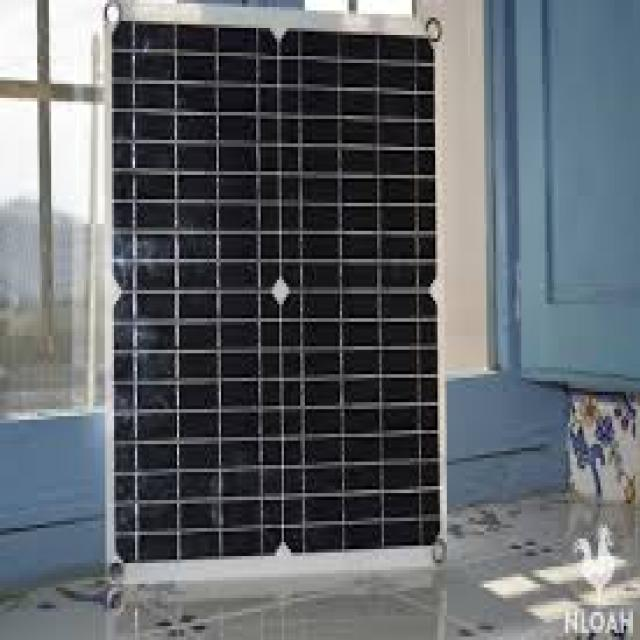faulty: (112, 16, 438, 561)
